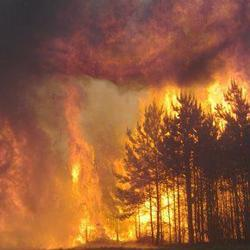fire: (72, 152, 96, 211), (136, 191, 174, 224), (206, 86, 243, 113)
